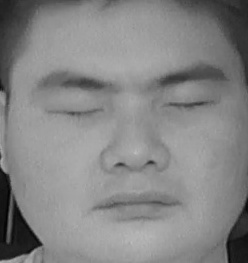blink: (53, 95, 103, 129), (167, 89, 215, 120)
mouth: (87, 180, 185, 233)
